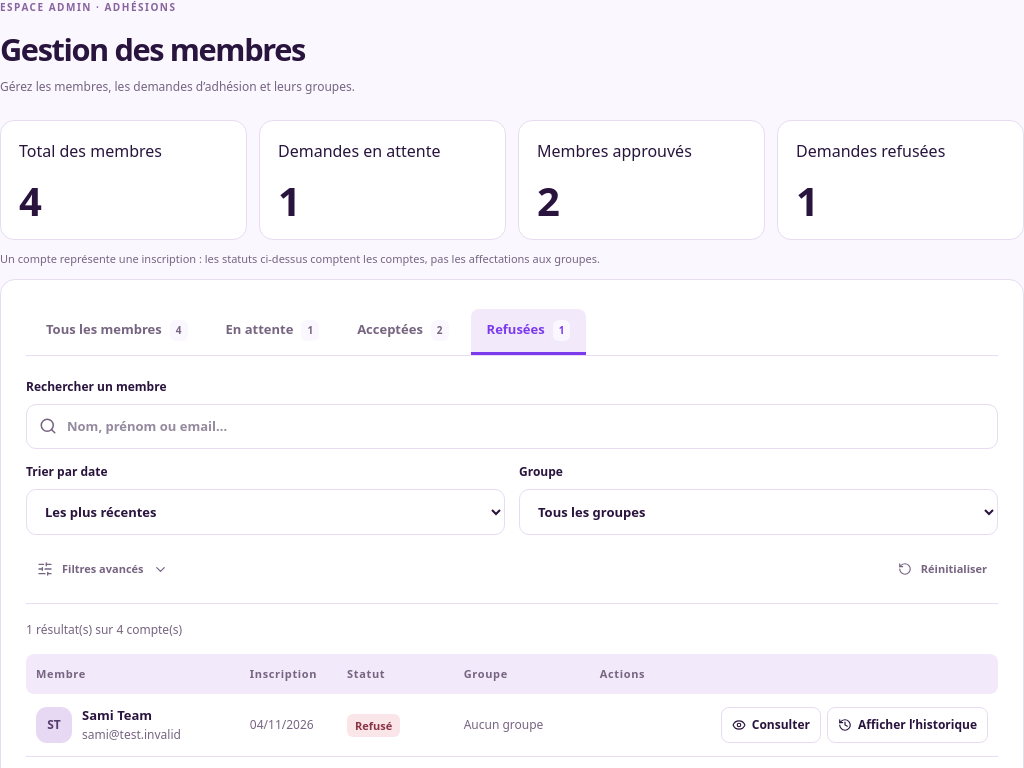
Gestion unique des membres › conserve les informations et signale honnêtement l’historique ancien
Click the button "Afficher l’historique" at [908, 725], box [827,707,988,743]
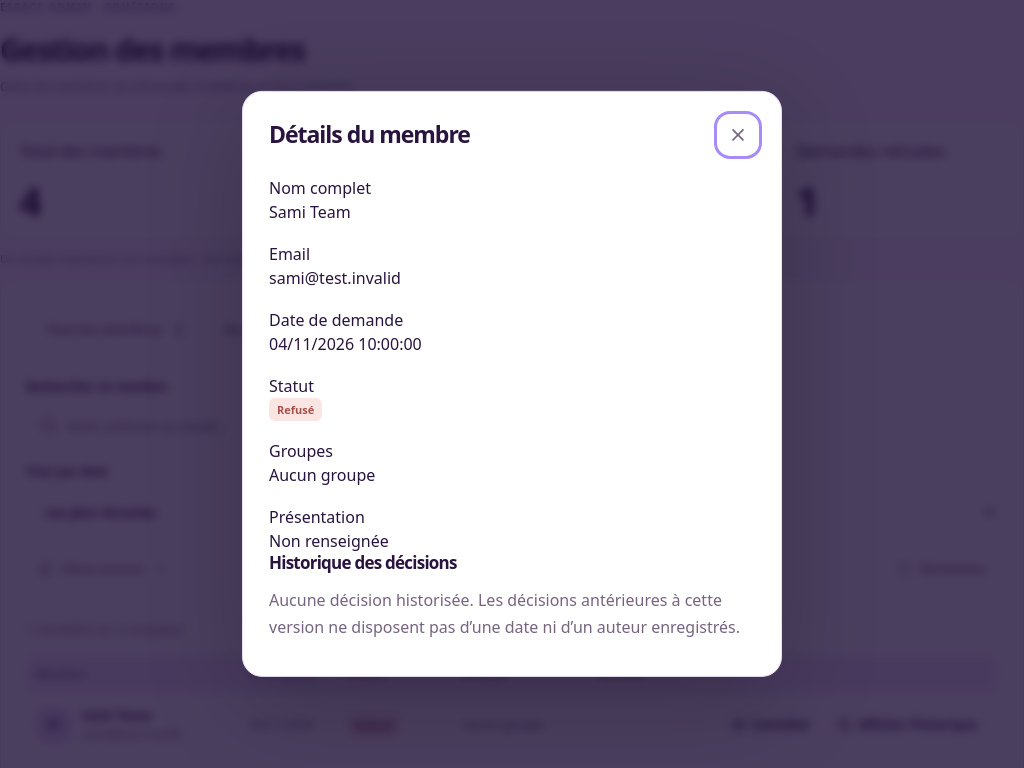
Expected: the text "Aucune décision historisée" is shown, [269,589,740,638]
